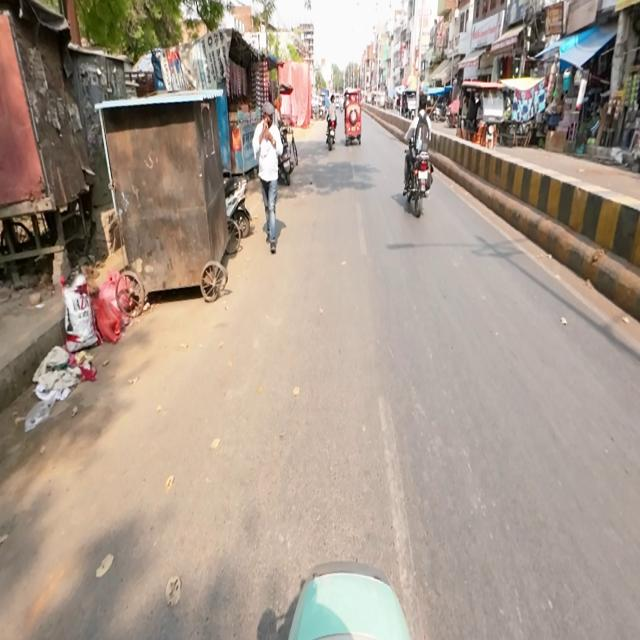Garbage: (36, 346, 90, 398)
